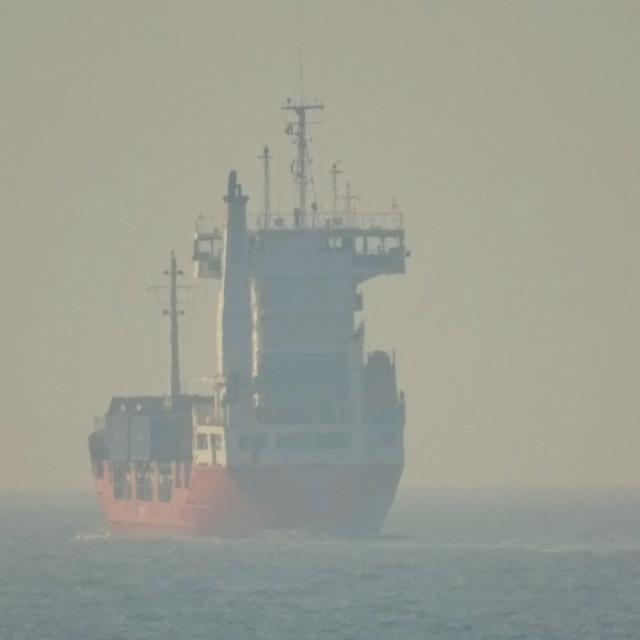cargoship: (69, 100, 415, 538)
